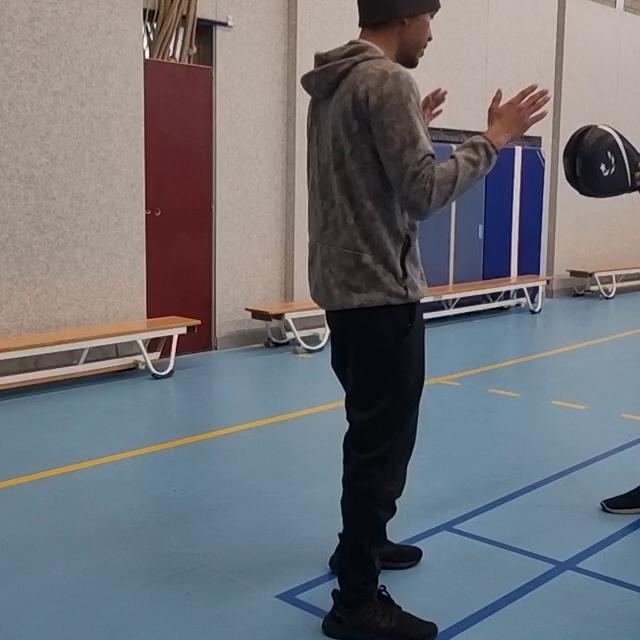paddle: (559, 119, 640, 204)
